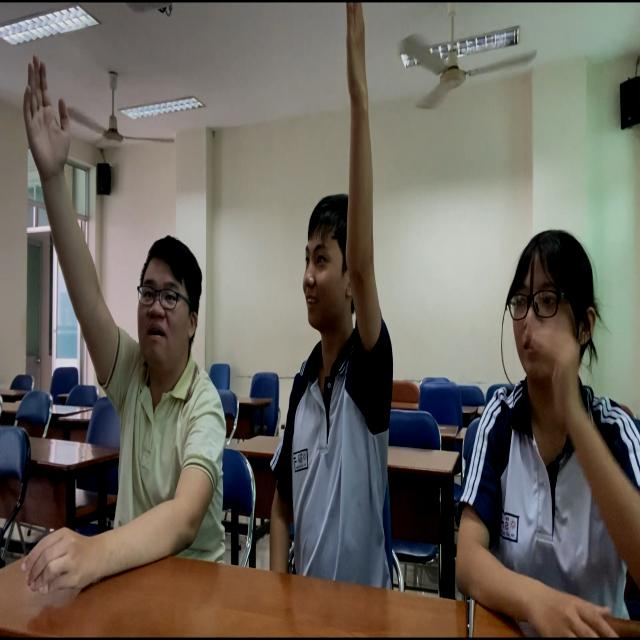raise_hand: (16, 48, 226, 584), (435, 224, 640, 622), (259, 5, 393, 584)
